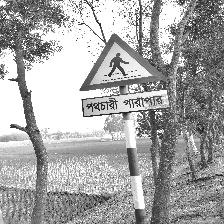Pedestrian-crossing: (79, 34, 170, 117)
